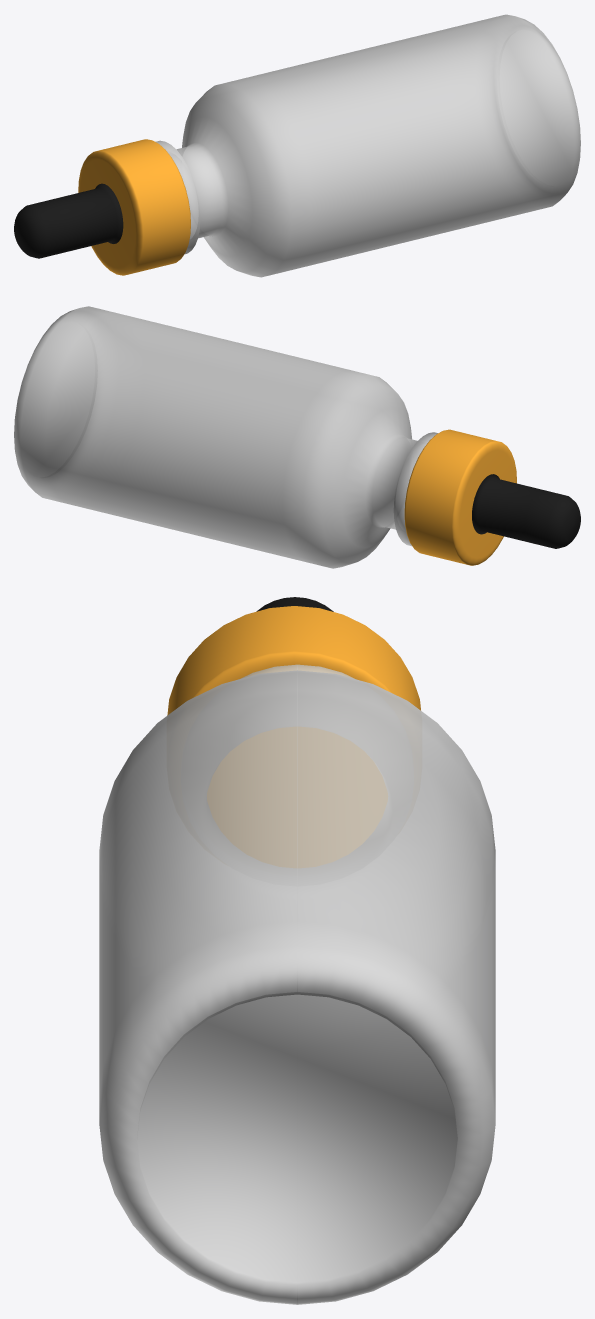
File: SerumBottle3.gltf
3 renders of one model, top to bottom at view 1: azimuth 30°, elevation 25°; view 2: azimuth 150°, elevation 25°; view 3: azimuth 270°, elevation 25°, orthographic. The views are drawn at different scales.
Visible parts, largest first — view 1: Cylinder, Cylinder.001, Cylinder.002; view 2: Cylinder, Cylinder.001, Cylinder.002; view 3: Cylinder, Cylinder.001.
Boxes of the visible parts, box(x1,y1,x2,y2) form: Cylinder: box(155, 14, 580, 277); Cylinder.001: box(78, 139, 190, 275); Cylinder.002: box(14, 183, 123, 258); Cylinder: box(14, 306, 437, 568); Cylinder.001: box(404, 429, 516, 565); Cylinder.002: box(472, 474, 580, 548); Cylinder: box(99, 664, 495, 1304); Cylinder.001: box(167, 606, 420, 867).
Bounding box in the file's own units: 4.21 × 1.39 × 1.39.
